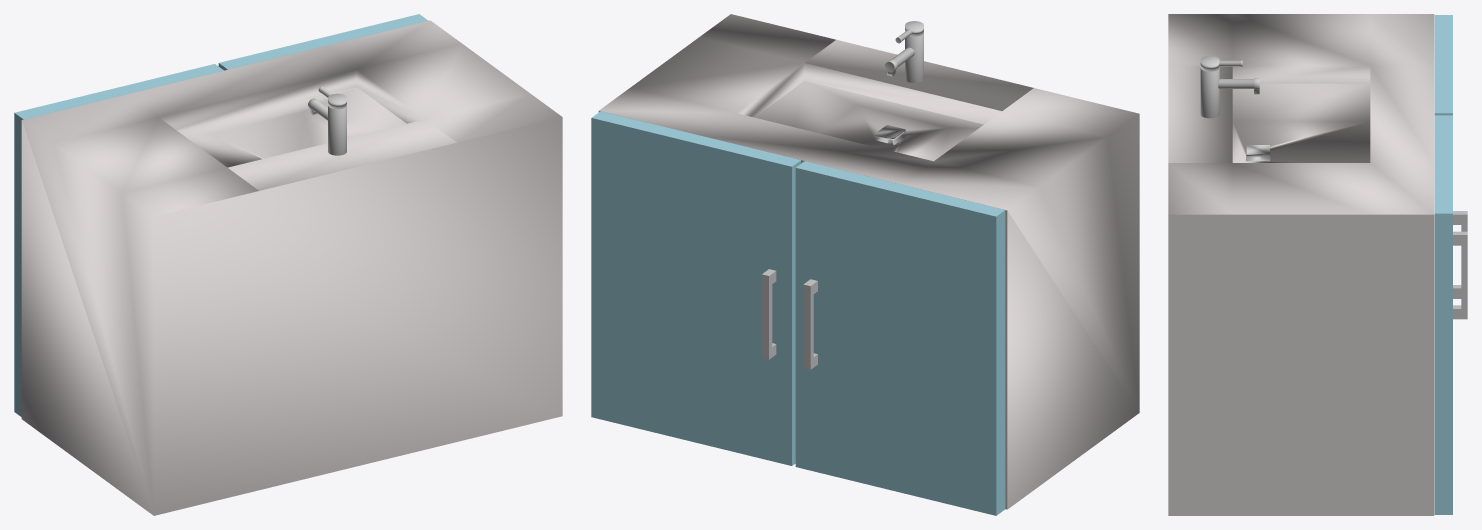
Rendered from CounterWSink.fbx.
3 views of the same model, side by side, from view 1: azimuth 30°, elevation 25°; view 2: azimuth 150°, elevation 25°; view 3: azimuth 270°, elevation 25° (orthographic).
Visible parts, largest first — view 1: CounterWSink, CounterWSinkDOOR.001, CounterWSinkDOOR, WaterFaucetBottom; view 2: CounterWSink, CounterWSinkDOOR.001, CounterWSinkDOOR, CounterWSinkHandle.001, CounterWSinkHandle, WaterFaucetBottom; view 3: CounterWSink, CounterWSinkDOOR, CounterWSinkDOOR.001, WaterFaucetBottom, CounterWSinkHandle, WaterFaucetTap, CounterWSinkHandle.001.
Boxes of the visible parts, x1,y1,x2,y2 form: CounterWSink: [21, 20, 562, 515]; CounterWSinkDOOR.001: [14, 64, 223, 416]; CounterWSinkDOOR: [218, 14, 428, 70]; WaterFaucetBottom: [328, 106, 346, 155]; CounterWSink: [598, 14, 1139, 509]; CounterWSinkDOOR.001: [795, 161, 1005, 515]; CounterWSinkDOOR: [591, 111, 800, 465]; CounterWSinkHandle.001: [803, 279, 817, 369]; CounterWSinkHandle: [762, 269, 776, 359]; WaterFaucetBottom: [905, 33, 923, 82]; CounterWSink: [1168, 14, 1434, 515]; CounterWSinkDOOR: [1434, 115, 1452, 514]; CounterWSinkDOOR.001: [1434, 15, 1452, 115]; WaterFaucetBottom: [1200, 68, 1219, 118]; CounterWSinkHandle: [1453, 231, 1467, 319]; WaterFaucetTap: [1218, 78, 1259, 94]; CounterWSinkHandle.001: [1453, 211, 1467, 298].
Bounding box in the file's own units: 100 × 82.62 × 62.97.
